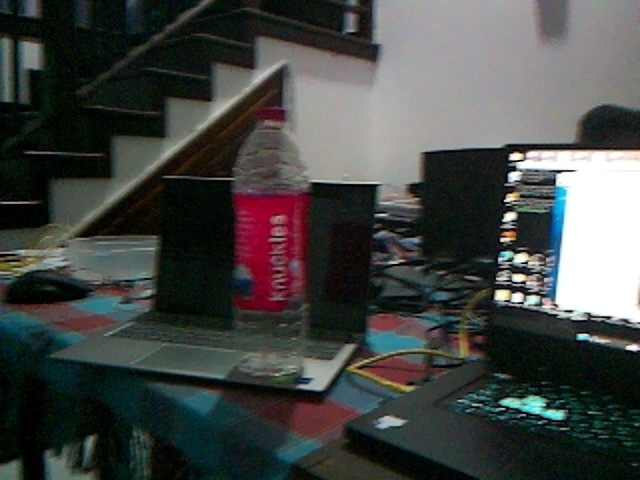bottle: (227, 105, 313, 378)
